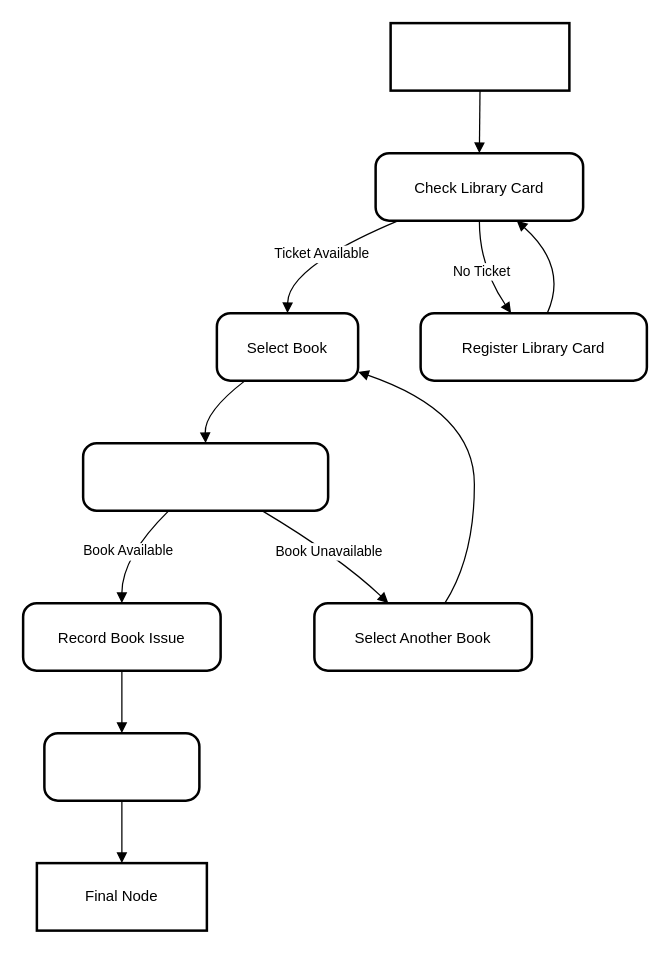
Image size: 669x953. Some labels were removed from this diagram. The shapes that lost their labels are listed below. From the top down, each one's centre as x and y in pixels, then its label:
[479,56]: Initial Node
[205,476]: Check Book Availability
[121,766]: Receive Book
